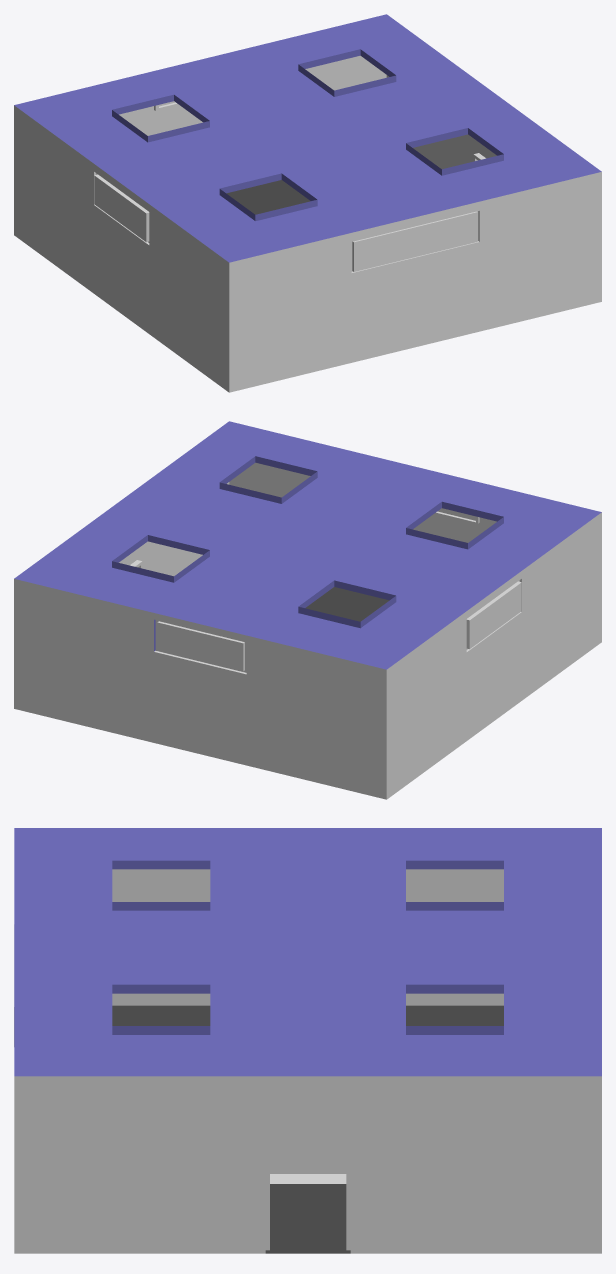
File: Escenario.fbx
The picture shows the model from 3 angles, top to bottom: view 1: azimuth 30°, elevation 25°; view 2: azimuth 150°, elevation 25°; view 3: azimuth 270°, elevation 25°; orthographic projection. The views are drawn at different scales.
Parts seen in each view (by area): view 1: Cube; view 2: Cube; view 3: Cube.
Part boxes in pixels (x1,y1,x2,y2): Cube: (14,14,601,392); Cube: (14,421,601,799); Cube: (14,828,601,1253).
Bounding box in the file's own units: 15.43 × 5.25 × 15.01.
